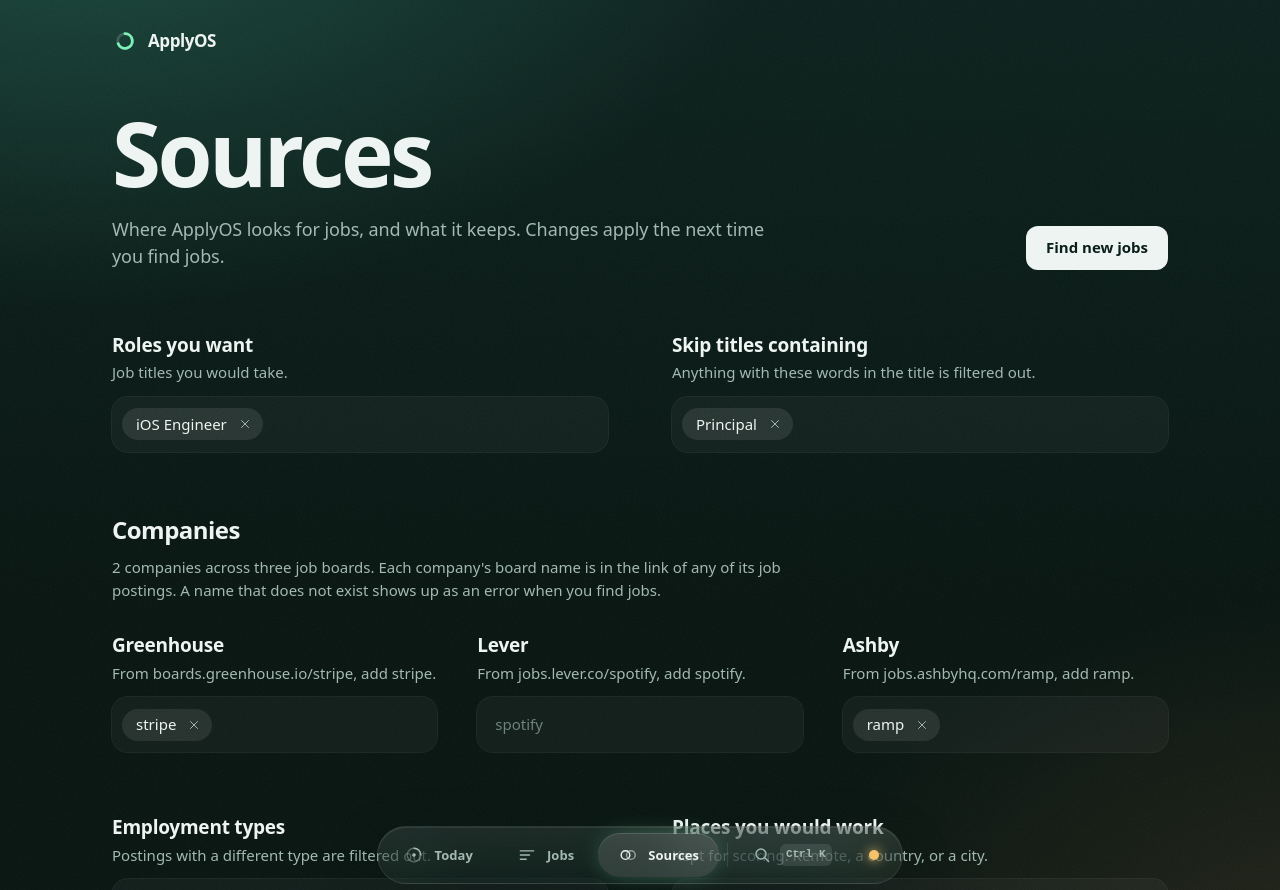
Scenario: Sources page › asks you to save before finding jobs
Expected: the text "stripe" is shown, [122,709,212,741]
Step 1. Click the button named "Remove stripe" → point(194, 725), box [182,713,206,737]
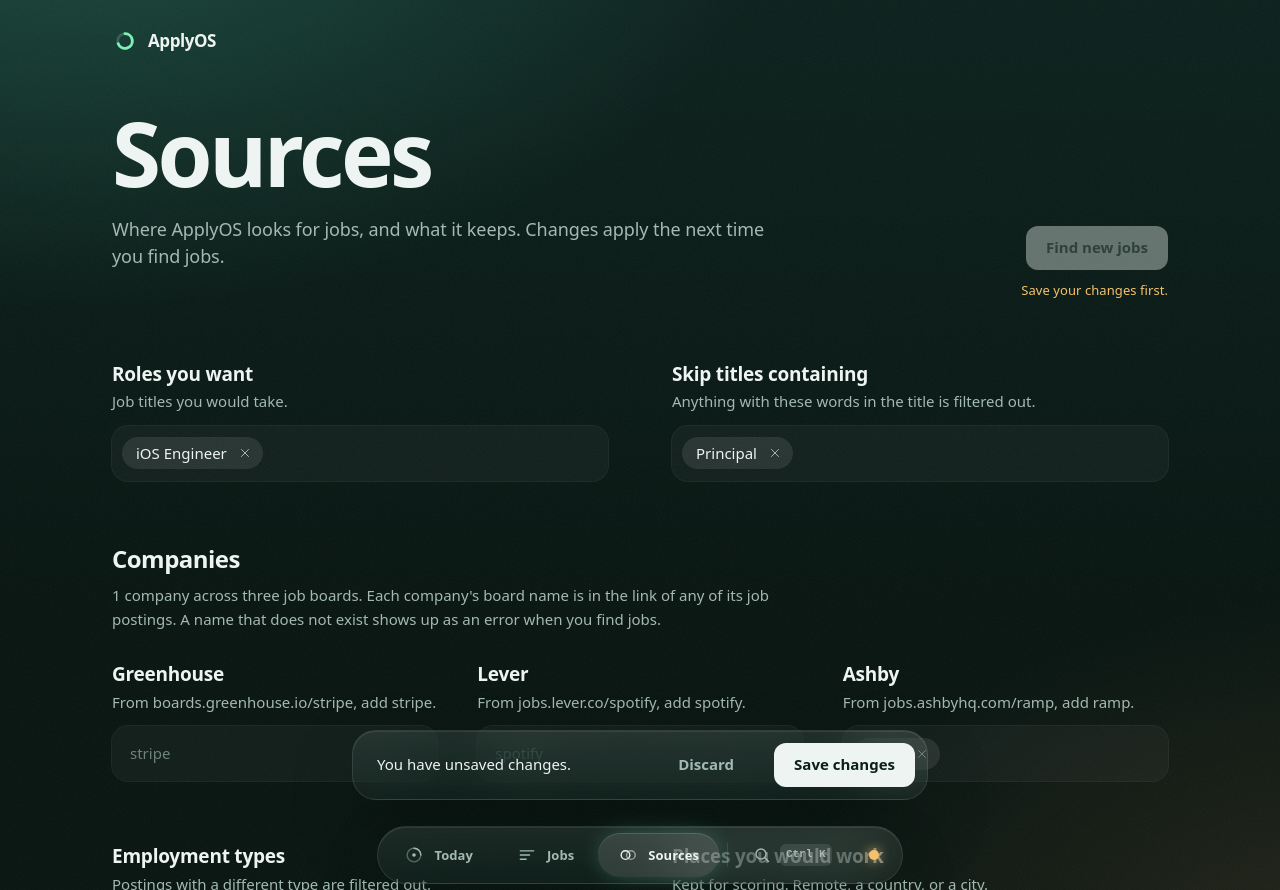
Expected: the button "Find new jobs" is disabled, [1026,226,1168,270]
Expected: the text "Save your changes first." is shown, [1021,281,1168,299]
